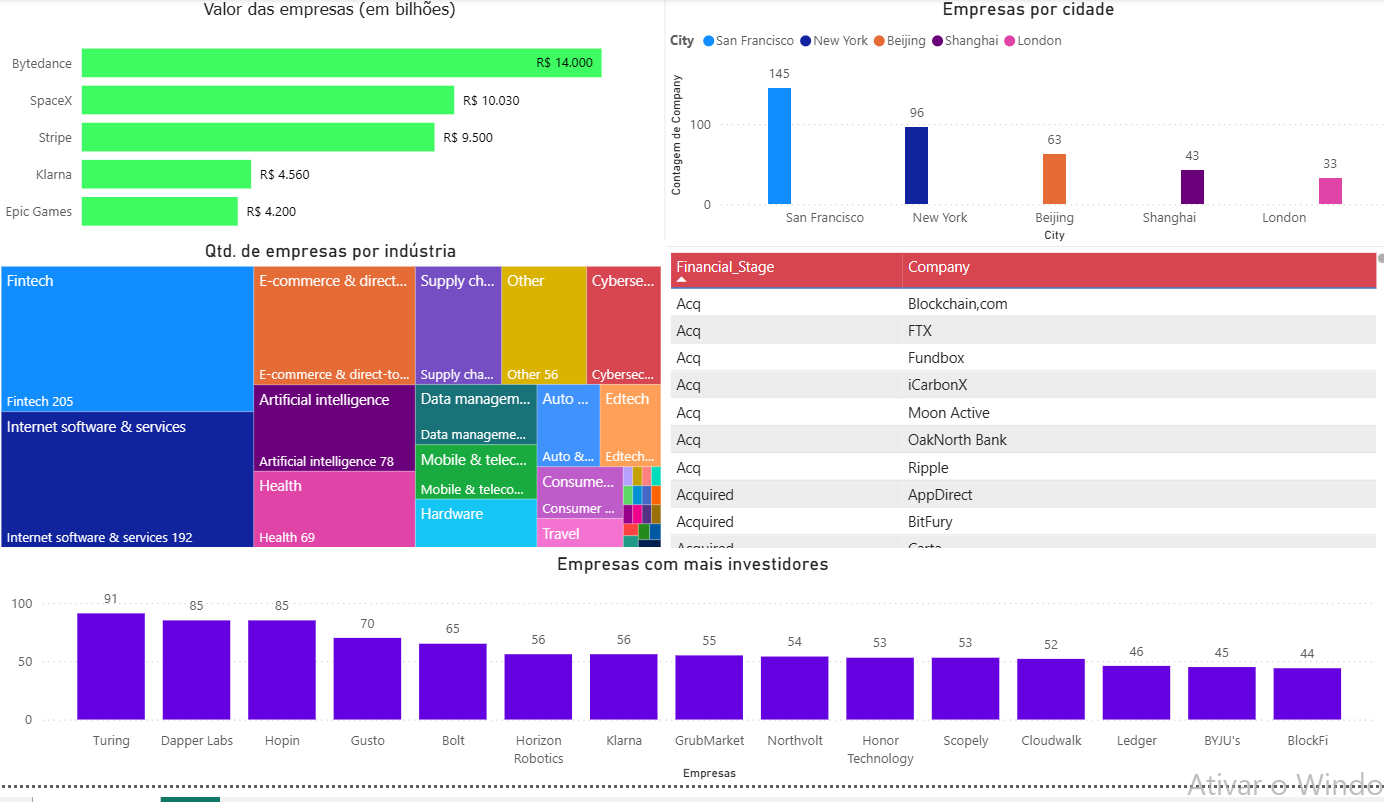

What the dashboard file says about the page in this screenshot:
{"tool":"powerbi","page":{"name":"Página 1","canvas":[1280,720],"ordinal":0},"visuals":[{"type":"clusteredBarChart","title":"Valor das empresas (em bilhões)","fields":{"Category":["Companies.Company"],"Y":["Sum(Companies.Valuation_B)"]},"box":[0,0,614.3,227.5],"z":0},{"type":"clusteredColumnChart","title":"Empresas por cidade","fields":{"Y":["CountNonNull(Companies.Company)"],"Category":["Companies.City"],"Series":["Companies.City"]},"box":[613.4,0,666.3,227.5],"z":1000},{"type":"treemap","title":"Qtd. de empresas por indústria","fields":{"Group":["Companies.Industry"],"Details":["Companies.Industry"],"Values":["CountNonNull(Companies.Industry)"]},"box":[0.9,220.3,613.4,286.6],"z":2000},{"type":"actionButton","box":[0,0,100,40],"z":3000},{"type":"tableEx","fields":{"Values":["Companies.Financial_Stage","Companies.Company"]},"box":[613.4,227.5,666.3,280.3],"z":4000},{"type":"clusteredColumnChart","title":"Empresas com mais investidores","fields":{"Category":["Companies.Company"],"Y":["Sum(Companies.Investors_Count)"]},"box":[9.7,507.7,1259.6,212],"z":5000}]}

Visuals, with their boxes on the page's 1280x720 design canvas (x1, y1, x2, y2). These are canvas units, not pixel positions in the 1384x802 screenshot, which may show the page scaled, cropped or inside an application window:
"Valor das empresas (em bilhões)" clusteredBarChart: pyautogui.locateOnScreen(0, 0, 614, 228)
"Empresas por cidade" clusteredColumnChart: pyautogui.locateOnScreen(613, 0, 1280, 228)
"Qtd. de empresas por indústria" treemap: pyautogui.locateOnScreen(1, 220, 614, 507)
actionButton: pyautogui.locateOnScreen(0, 0, 100, 40)
tableEx - Companies.Financial_Stage x Companies.Company: pyautogui.locateOnScreen(613, 228, 1280, 508)
"Empresas com mais investidores" clusteredColumnChart: pyautogui.locateOnScreen(10, 508, 1269, 720)
